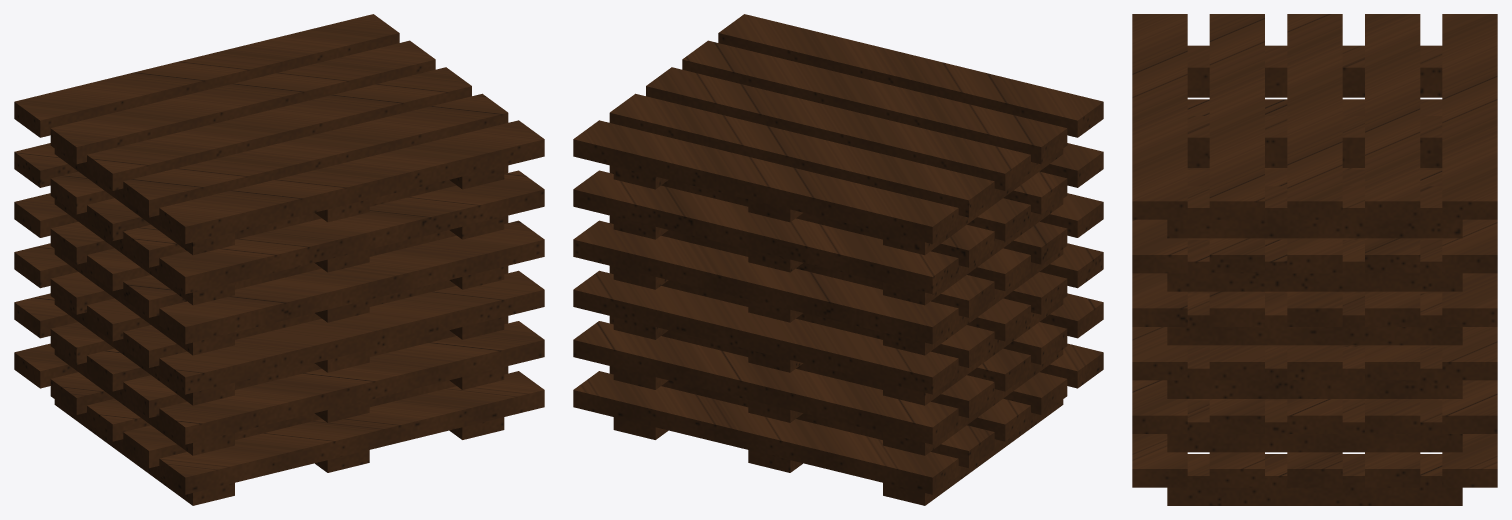
Rendered from PROP-F4DA946D6EB2_lod2.glb.
The picture shows the model from 3 angles, left to right: view 1: azimuth 30°, elevation 25°; view 2: azimuth 150°, elevation 25°; view 3: azimuth 270°, elevation 25°; orthographic projection. The views are drawn at different scales.
Visible parts, largest first — view 1: pallet_deck.002, pallet_feet.002; view 2: pallet_deck.002, pallet_feet.002; view 3: pallet_deck.002, pallet_feet.002.
Boxes of the visible parts, box(x1,y1,x2,y2) form: pallet_deck.002: box(14, 14, 544, 494); pallet_feet.002: box(54, 149, 504, 505); pallet_deck.002: box(573, 14, 1103, 494); pallet_feet.002: box(613, 149, 1063, 505); pallet_deck.002: box(1132, 14, 1497, 487); pallet_feet.002: box(1167, 45, 1462, 505).
Bounding box in the file's own units: 1.2 × 0.9475 × 0.99.
1 material, 1 textured.
